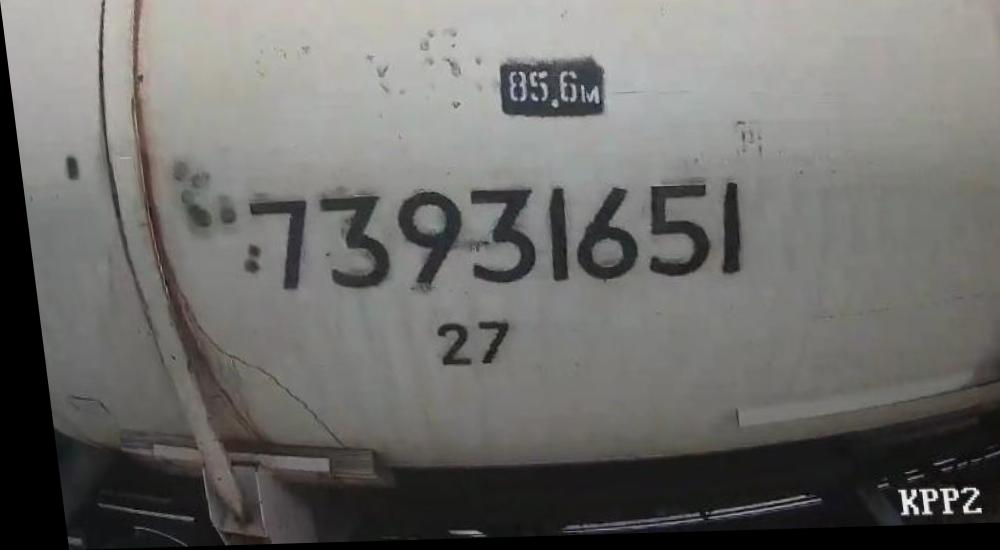Wagon-number: (238, 175, 747, 300)
